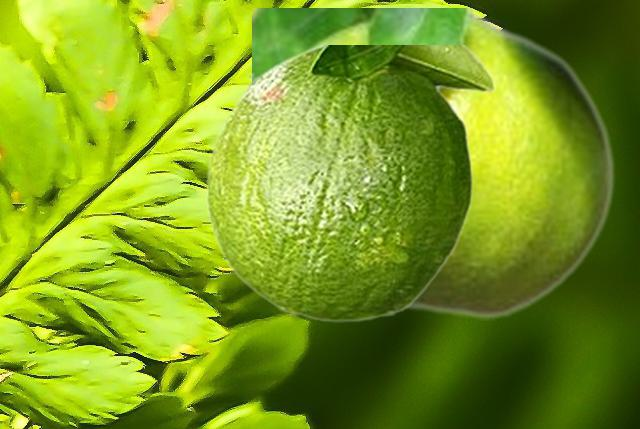dalandan: (252, 8, 615, 319), (205, 45, 495, 321)
